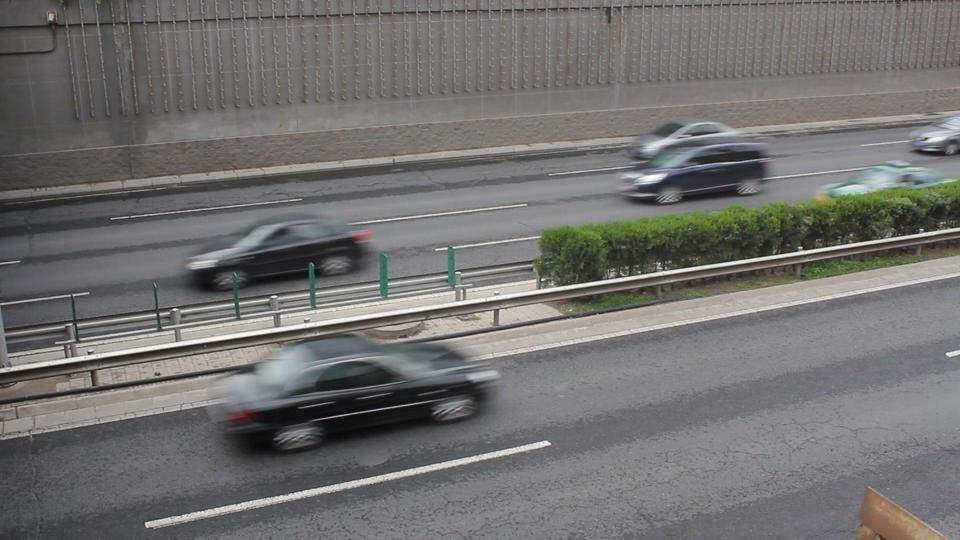car: (209, 334, 503, 453), (181, 218, 374, 288), (618, 142, 777, 205), (814, 162, 956, 202), (622, 119, 740, 167), (909, 113, 960, 157)
